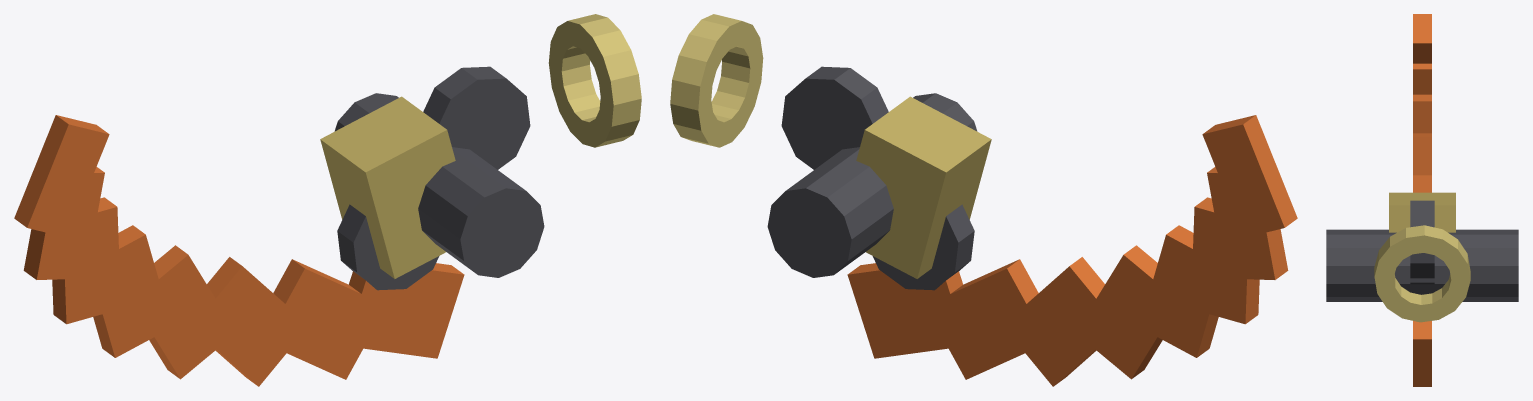
The model's file is lav_karambit.glb.
3 views of the same model, side by side, from view 1: azimuth 30°, elevation 25°; view 2: azimuth 150°, elevation 25°; view 3: azimuth 270°, elevation 25° (orthographic). The views are drawn at different scales.
Parts seen in each view (by area): view 1: geometry_0; view 2: geometry_0; view 3: geometry_0.
Part boxes in pixels (x1,y1,x2,y2): geometry_0: (14, 14, 641, 386); geometry_0: (670, 14, 1297, 386); geometry_0: (1326, 14, 1518, 386).
Bounding box in the file's own units: 0.2092 × 0.1101 × 0.08.
